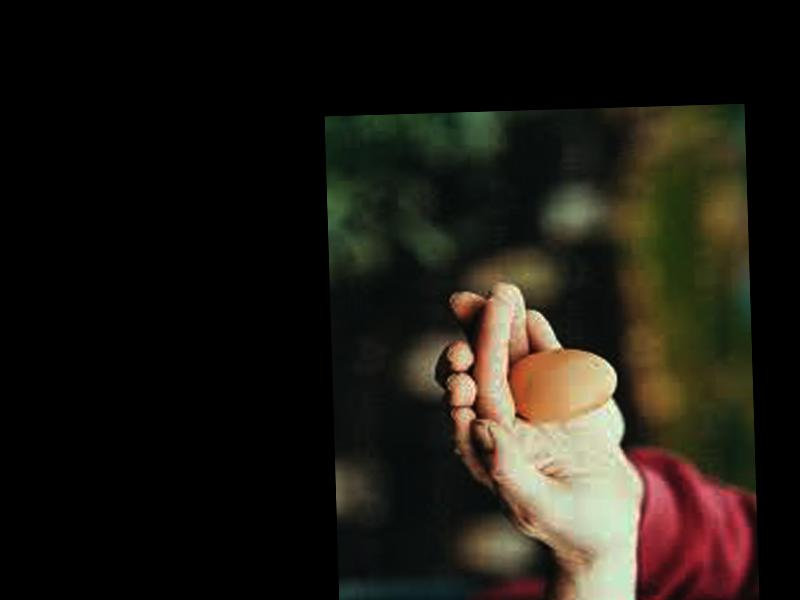Eggs: (510, 348, 618, 422)
